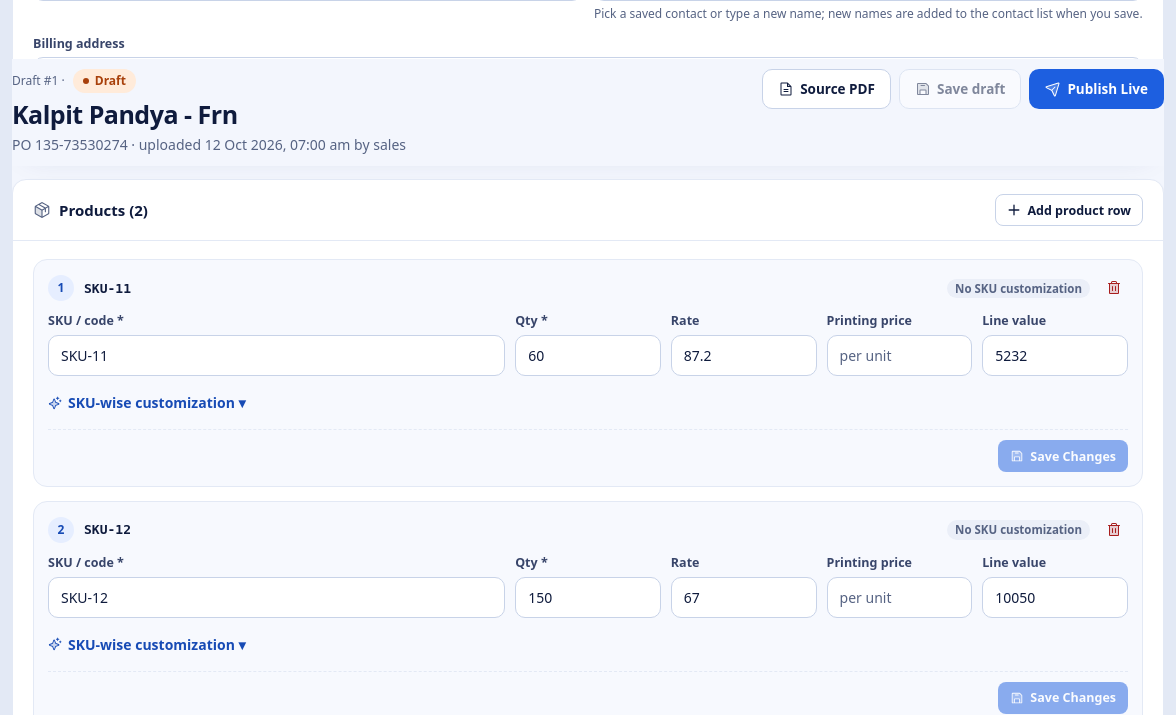
Scenario: product card Save Changes › shows the lock message if the order was published meanwhile
(page scrolled)
Type "Z" into the field labelled "SKU / code *" below "SKU-11" at (277, 356), box [48, 335, 505, 376]
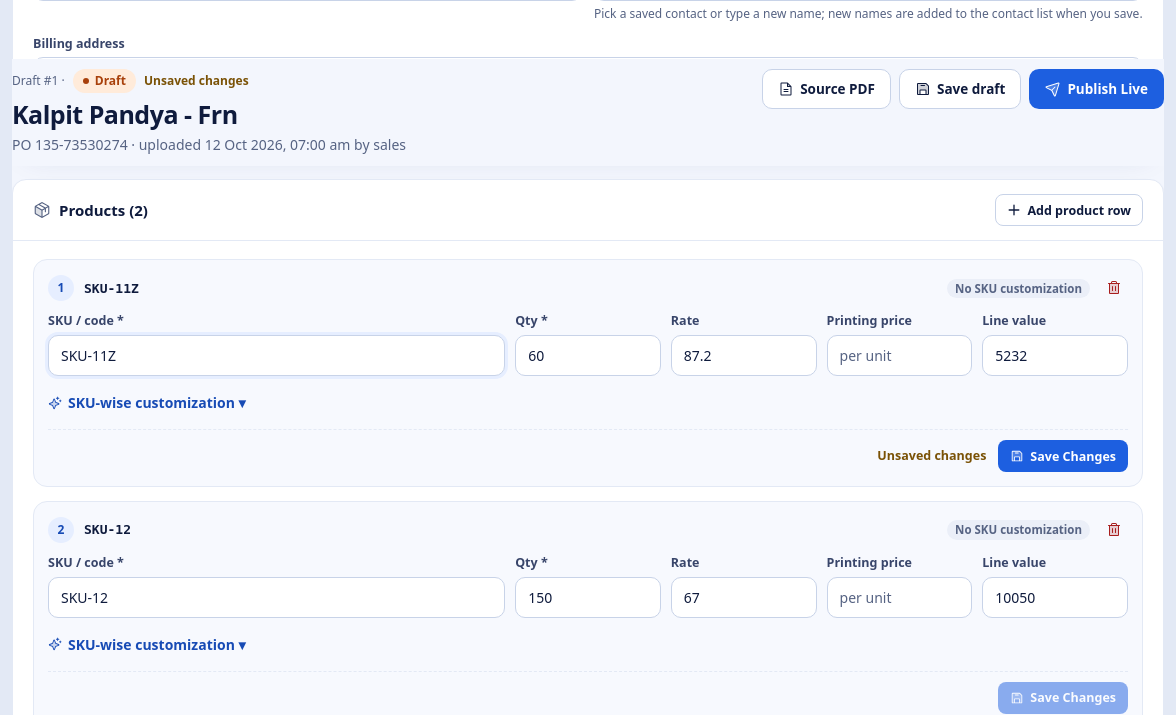
Click the 1st button "Save Changes" at (1063, 456), box [998, 440, 1128, 472]
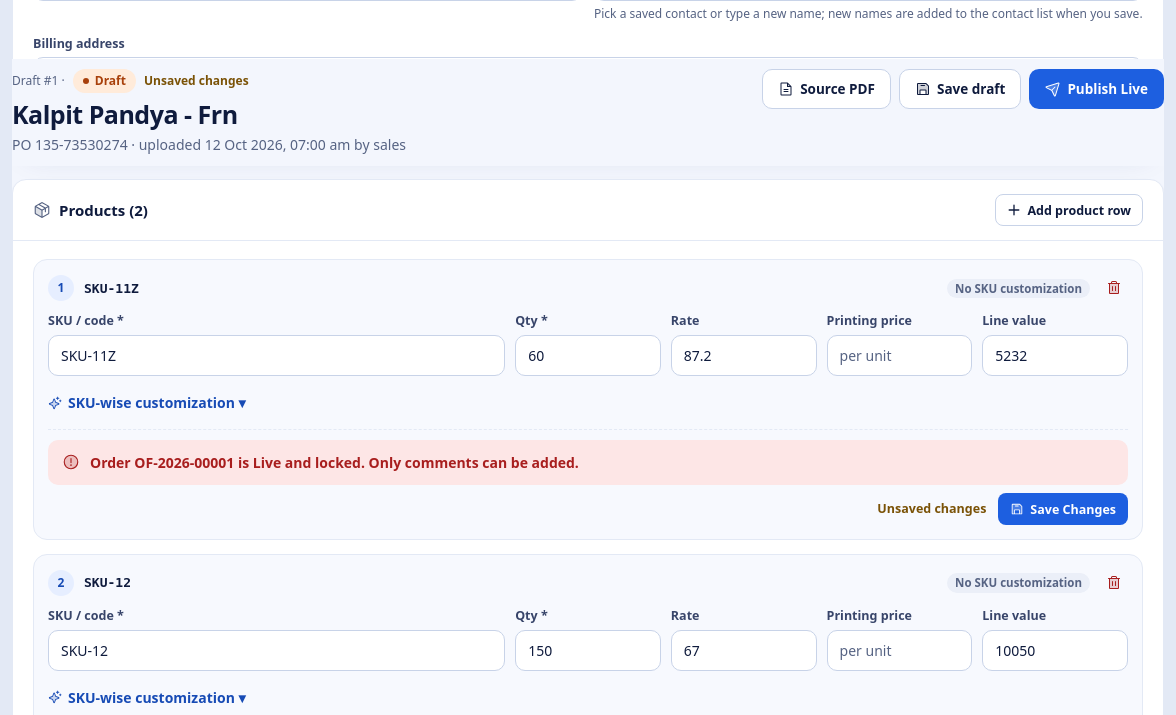
Expected: the field labelled "SKU / code *" below "SKU-11Z" holds "SKU-11Z", [48, 335, 505, 376]
Expected: the text "is Live and locked" is shown, [90, 453, 579, 472]
